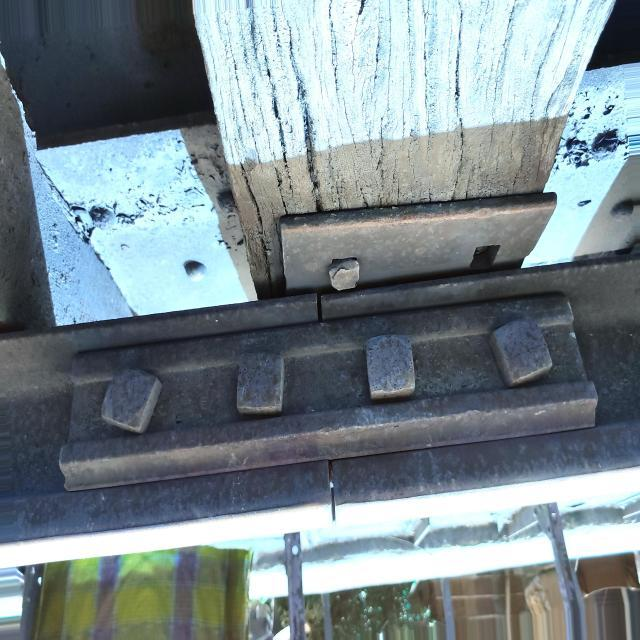Good Joint: (58, 290, 605, 495)
Missing Dogscrew: (469, 245, 500, 270)
